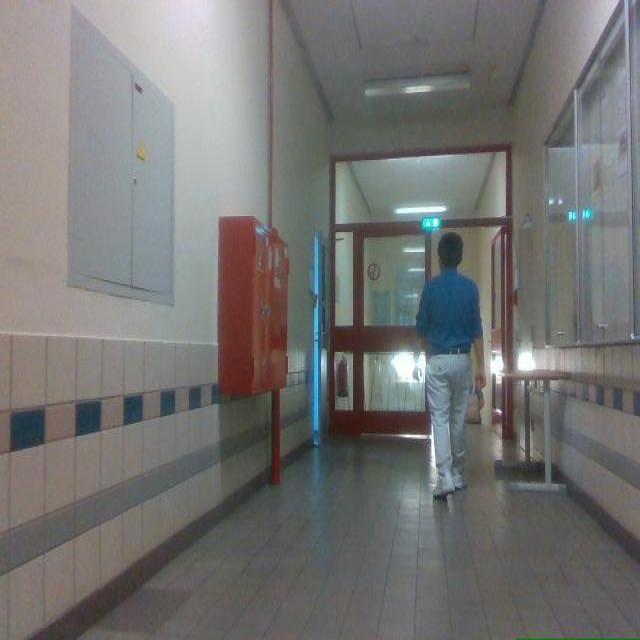humans: (416, 232, 485, 500)
